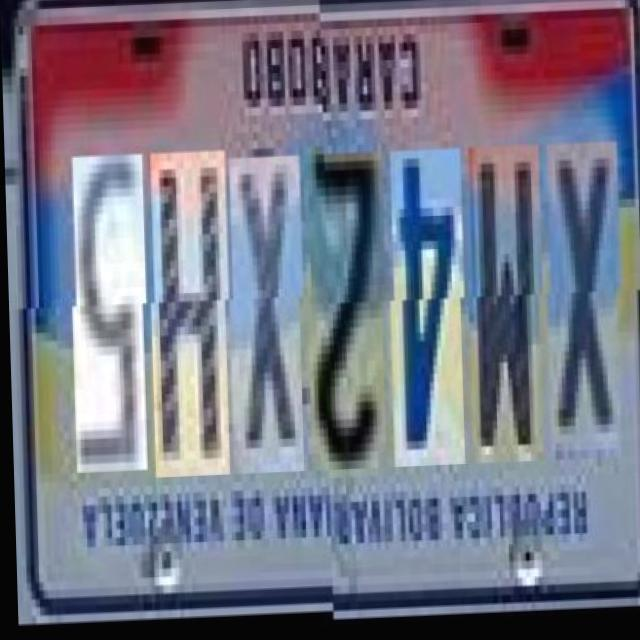2: (301, 155, 384, 482)
4: (384, 153, 462, 471)
5: (67, 164, 144, 482)
h: (144, 160, 227, 487)
m: (462, 150, 541, 468)
x: (540, 148, 619, 466), (224, 167, 301, 485)
